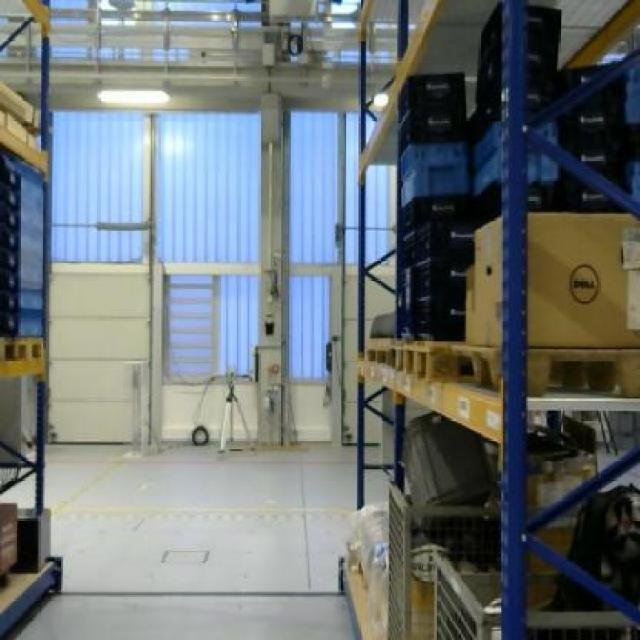box: (474, 206, 638, 351)
